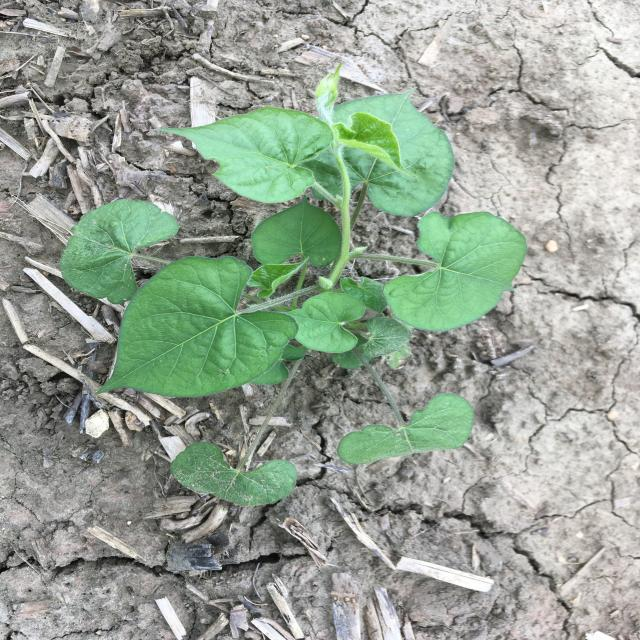MorningGlory: (60, 62, 528, 508)
